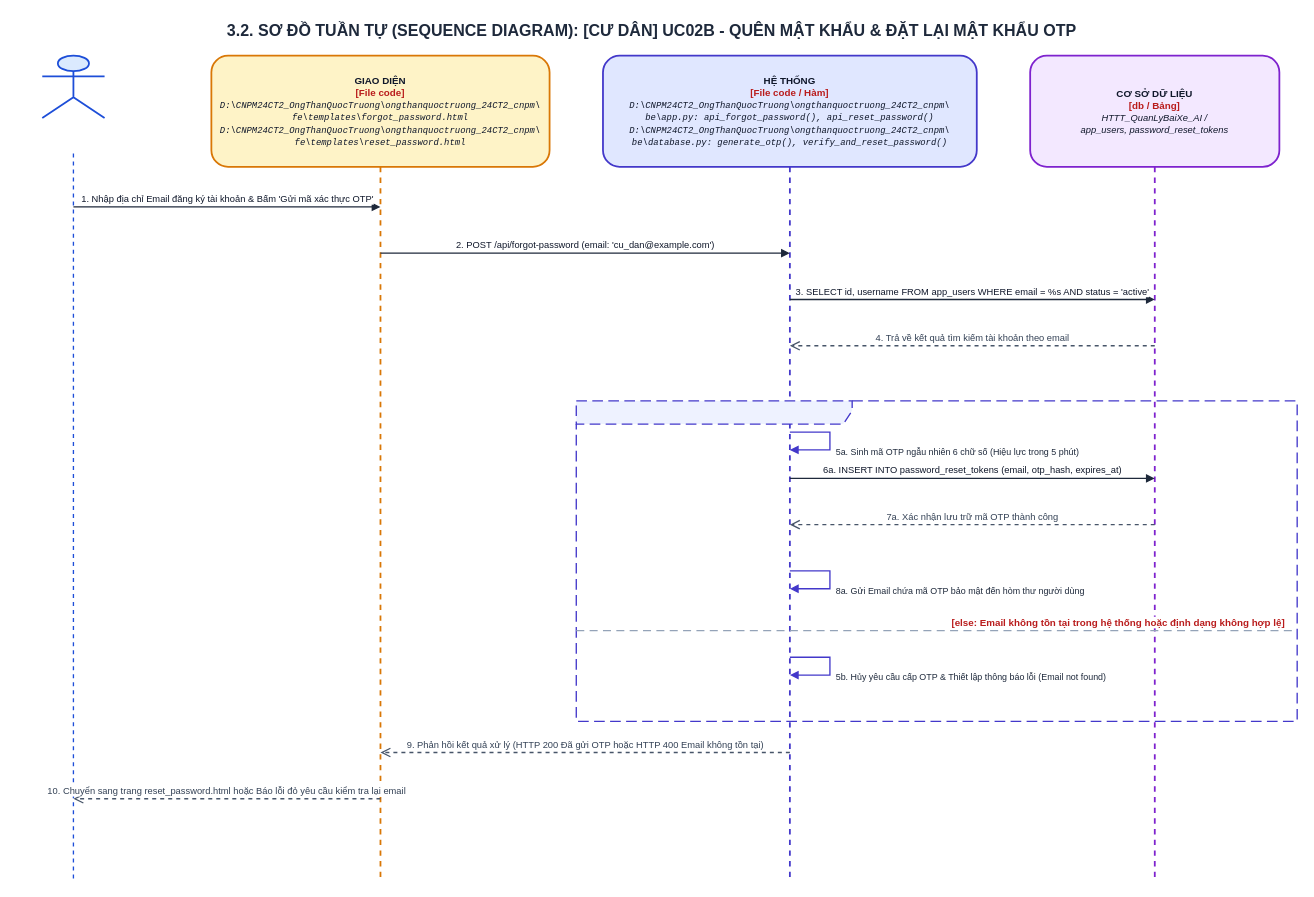
The diagram is 1314 pixels wide and 897 high, and some of its shapes have lost their labels. Each missing label, with the centre of its shape:
"alt [Email hợp lệ & Khớp tài khoản đang hoạt động]" belongs at (x=936, y=561).
"TÁC NHÂN Người Dùng (Cư Dân / Nhân Viên)" belongs at (x=73, y=86).
